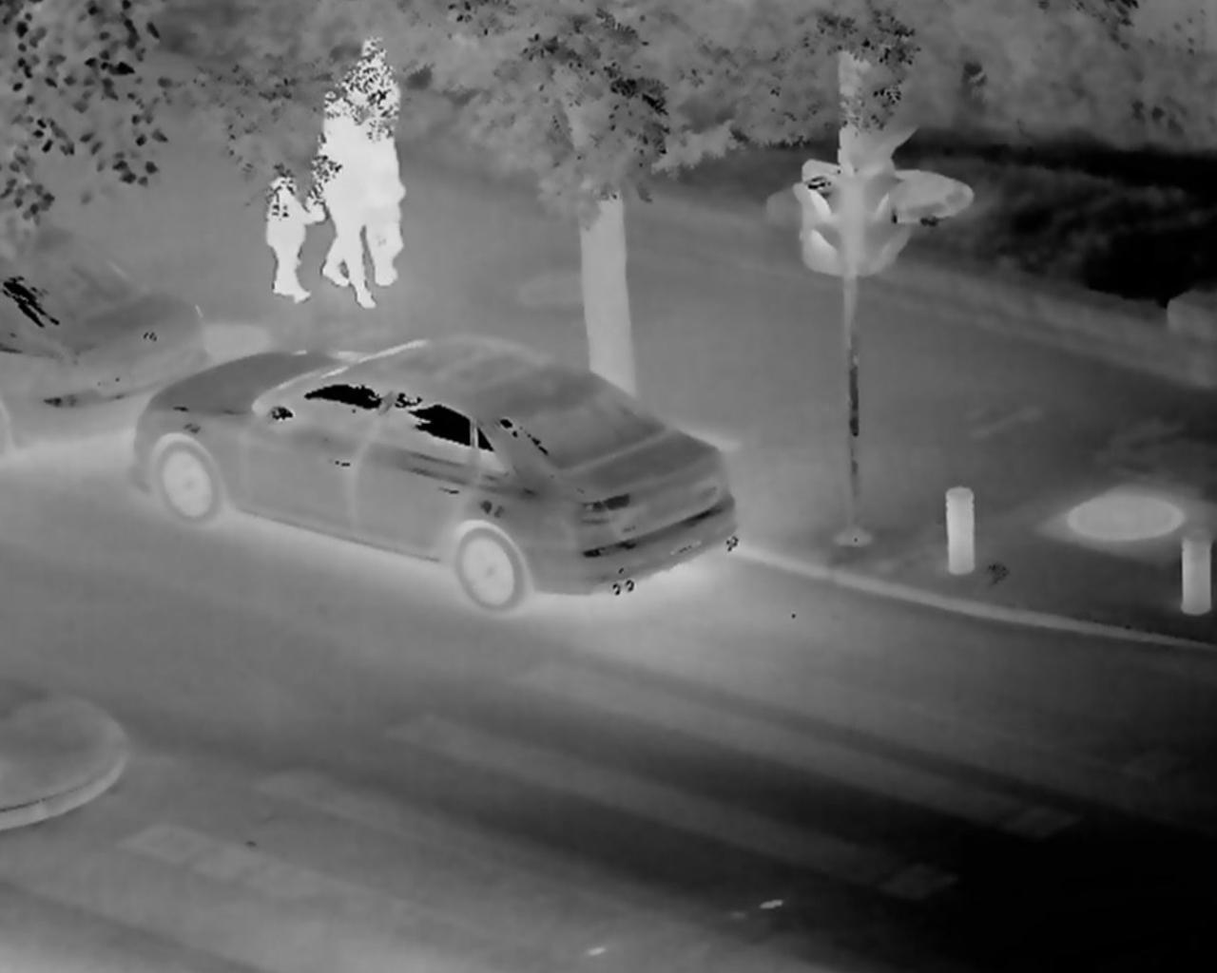person: (317, 80, 367, 307), (357, 71, 410, 271), (269, 174, 317, 297)
